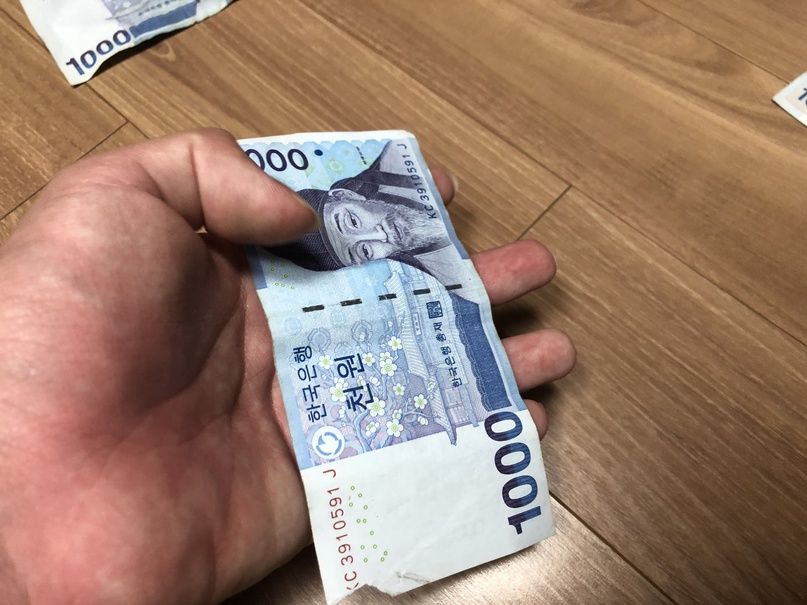1000won: (230, 131, 556, 605)
